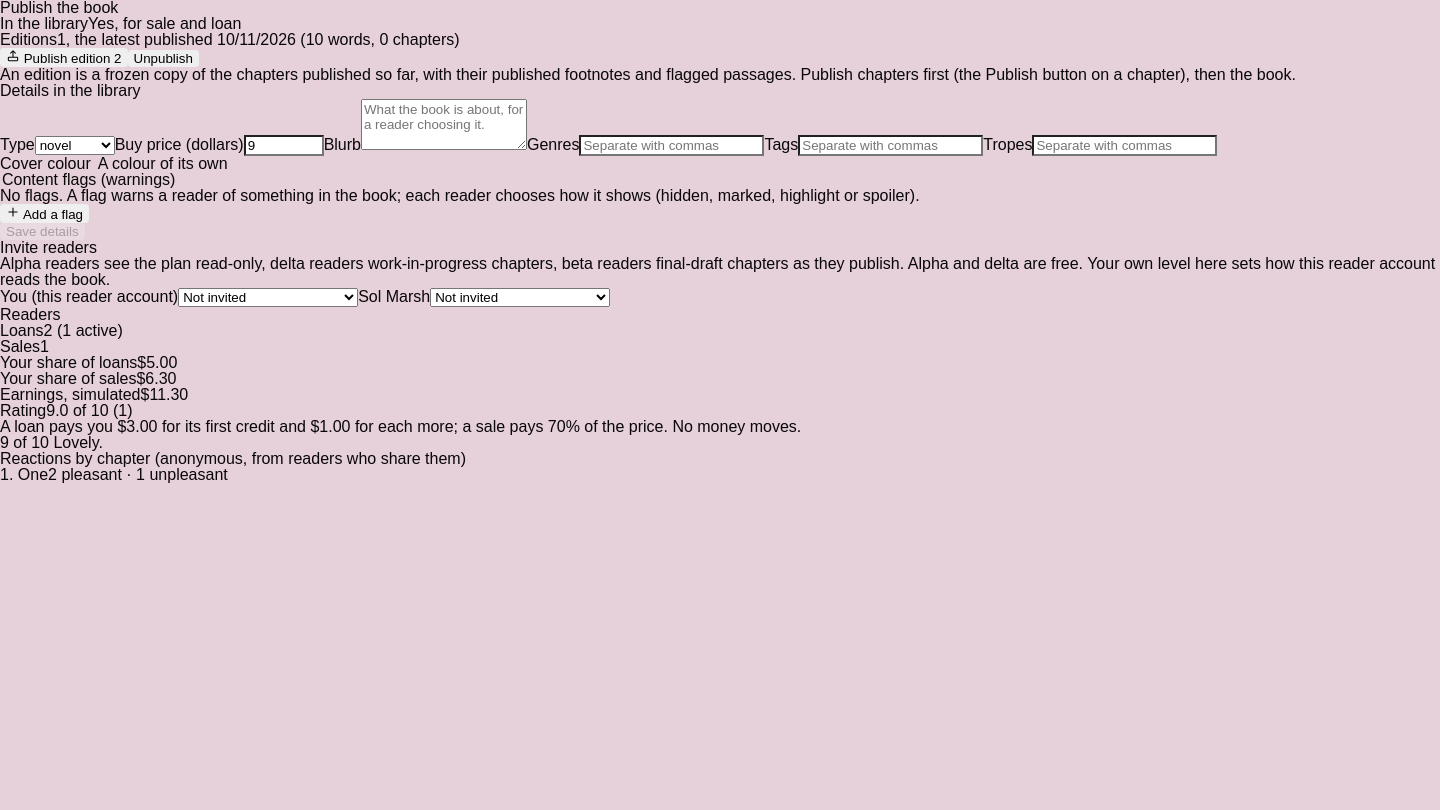
Scenario: the Book level's Publish tab › takes the book off the library only after the author confirms
Click the button "Unpublish".
click(163, 58)  # box [128,50,199,67]
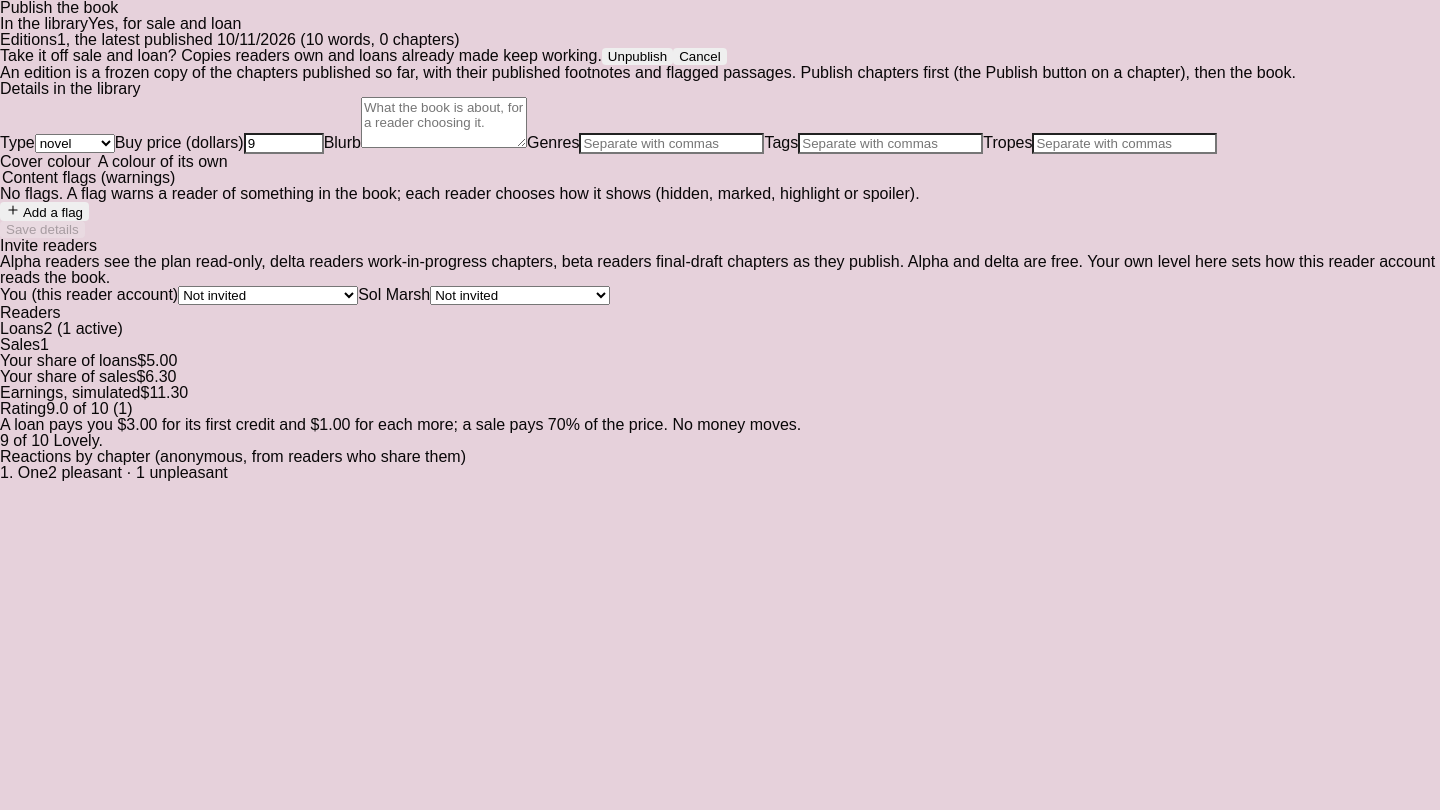
Click the button "Unpublish".
click(638, 56)  # box [602,48,673,65]
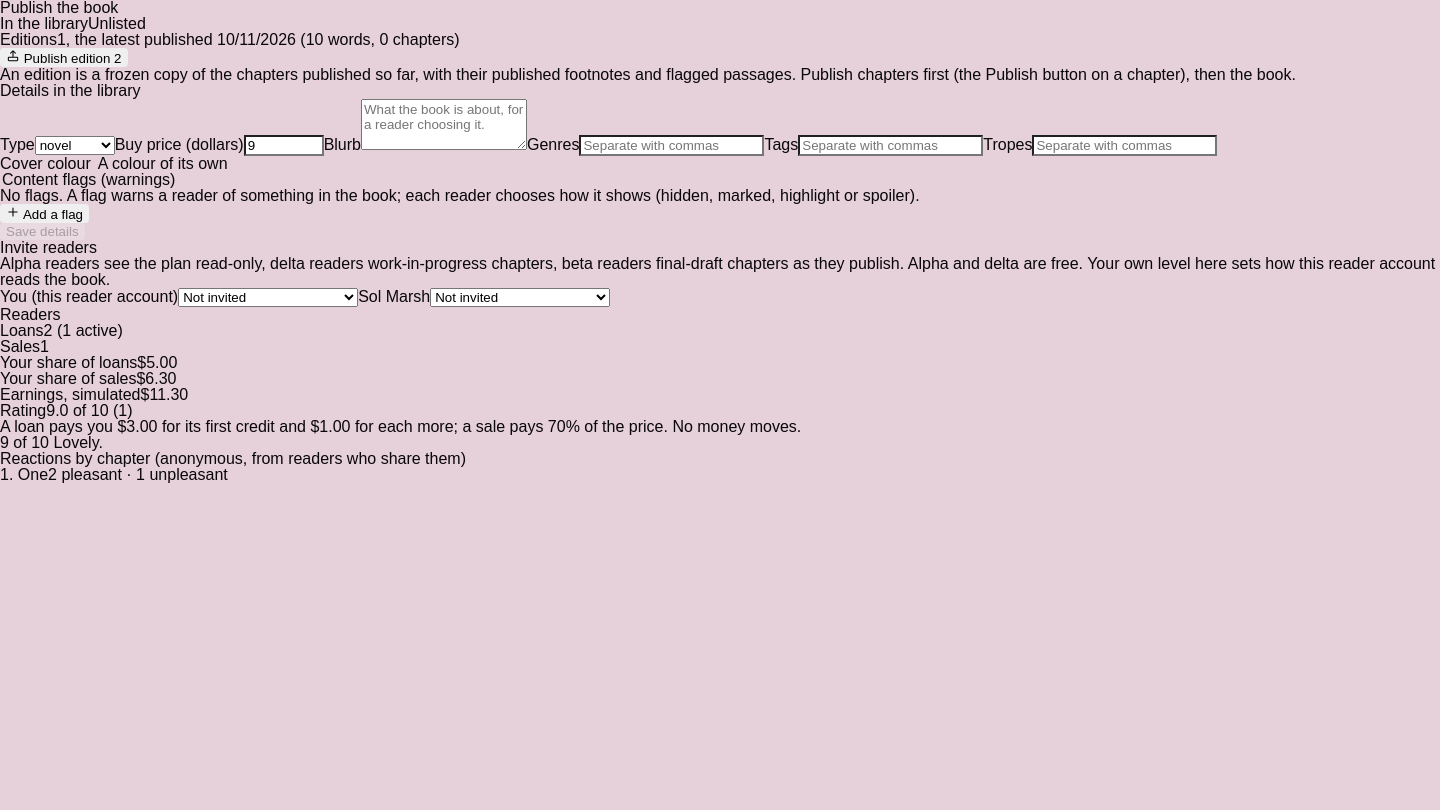
Check: the text "Unlisted" is shown, box [88,15,146,32]
